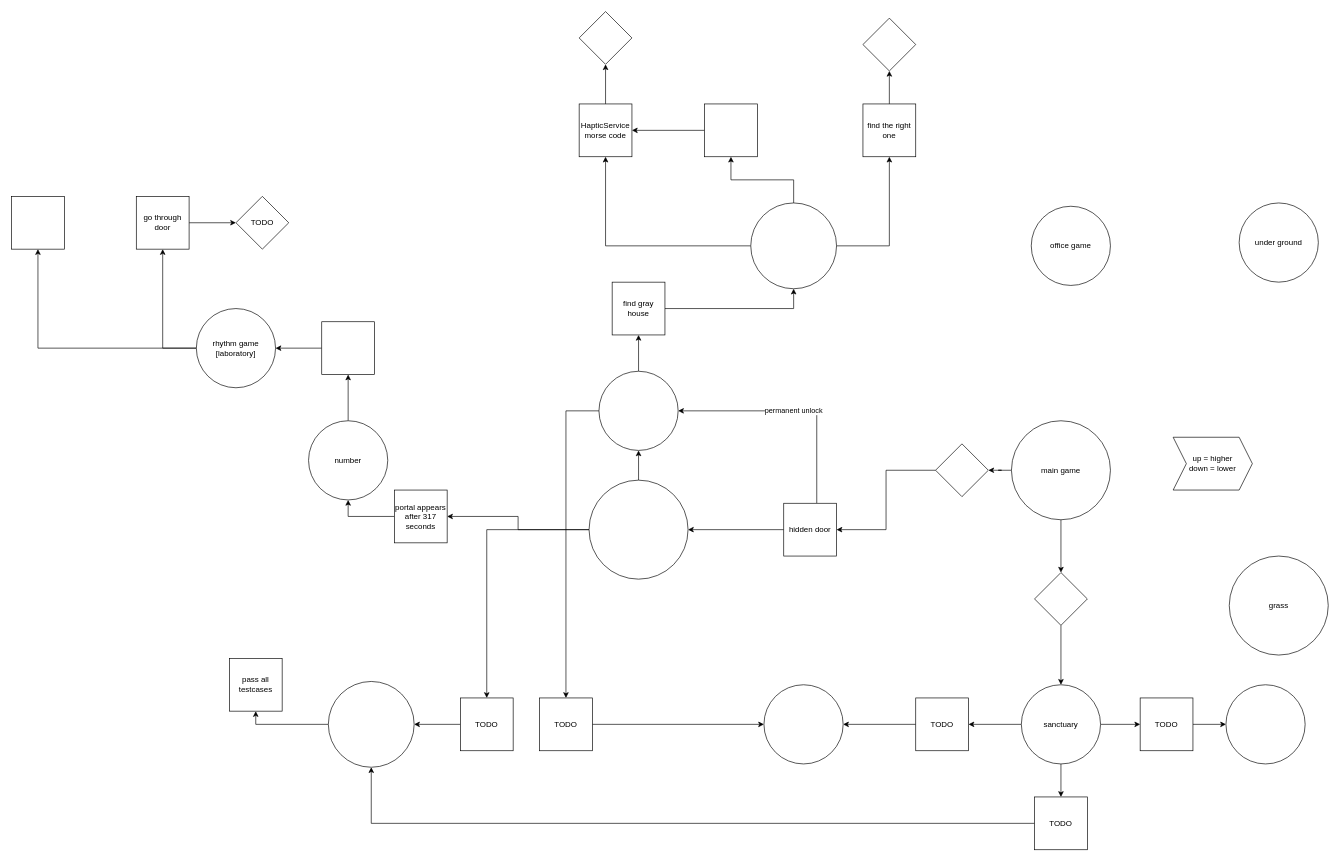
Image size: 1340x861. Some labels were removed from this diagram. The centre of each missing label's shape, as x and y in pixels:
code: point (371, 724)
find hidden room: point (37, 222)
hidden button: point (348, 348)
hidden room: point (730, 130)
houses: point (638, 410)
liminal game: point (793, 245)
Lobby: point (961, 470)
puzzle hub: point (638, 529)
RNG achievement: point (1060, 598)
rng game: point (1265, 724)
stairway: point (803, 724)
